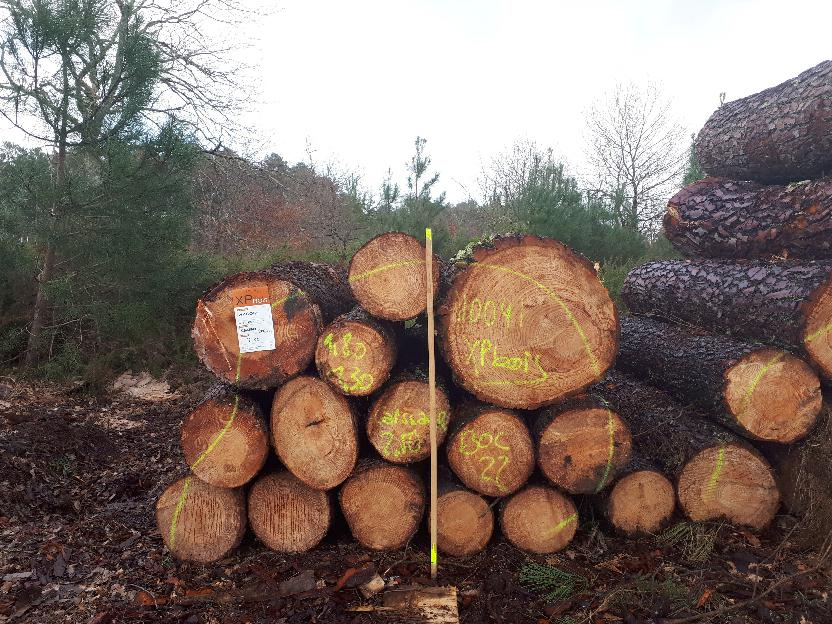etalon: (426, 225, 439, 581)
object: (440, 235, 618, 407), (196, 269, 320, 387), (270, 374, 354, 492), (721, 348, 821, 444), (540, 406, 634, 498), (175, 398, 267, 488), (364, 373, 450, 467), (348, 230, 438, 318), (153, 474, 239, 564), (684, 444, 778, 526), (448, 408, 534, 496), (249, 474, 329, 554), (343, 467, 421, 549), (318, 317, 390, 395), (502, 486, 574, 552), (427, 492, 493, 556), (609, 469, 672, 535)
pile: (154, 214, 678, 568)
